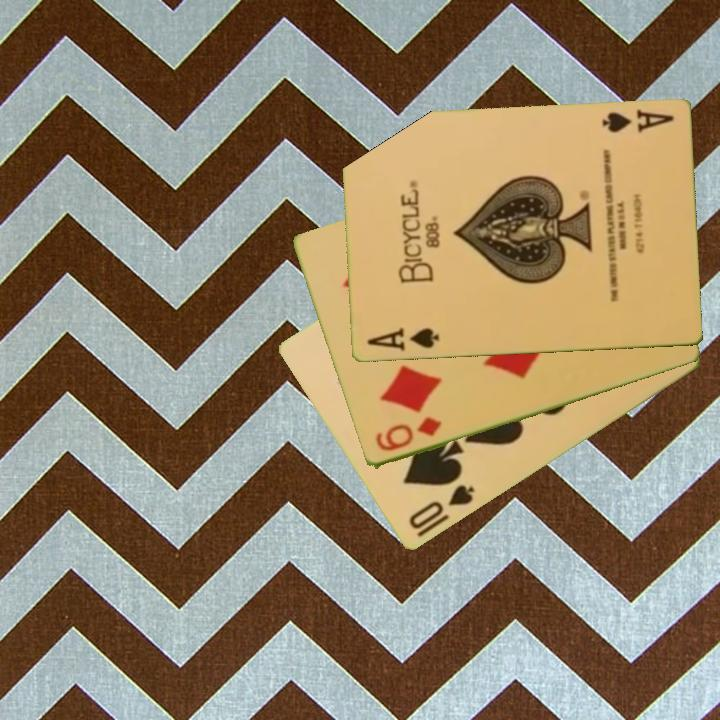10s: (405, 481, 478, 533)
6d: (371, 414, 444, 455)
As: (363, 324, 441, 354), (598, 106, 676, 136)
